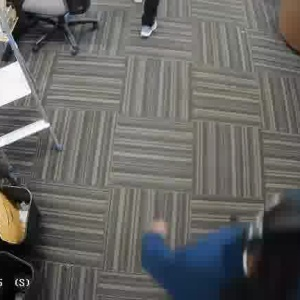person: (166, 187, 300, 300)
